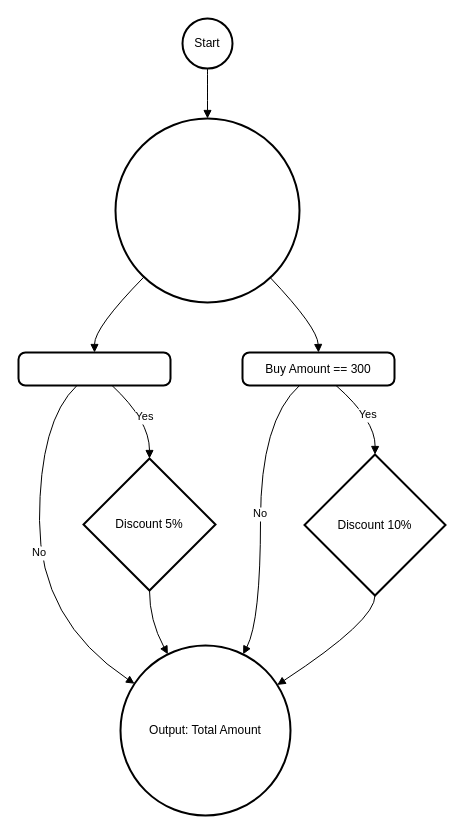
Image size: 463x833. Some labels were removed from this diagram. Each missing label, with the centre of its shape:
"Buy Amount == 100" goes at pixel 94 368.
"User Input: Buy Amount" goes at pixel 207 210.
